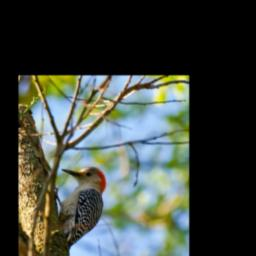Woodpecker: (48, 162, 119, 256)
